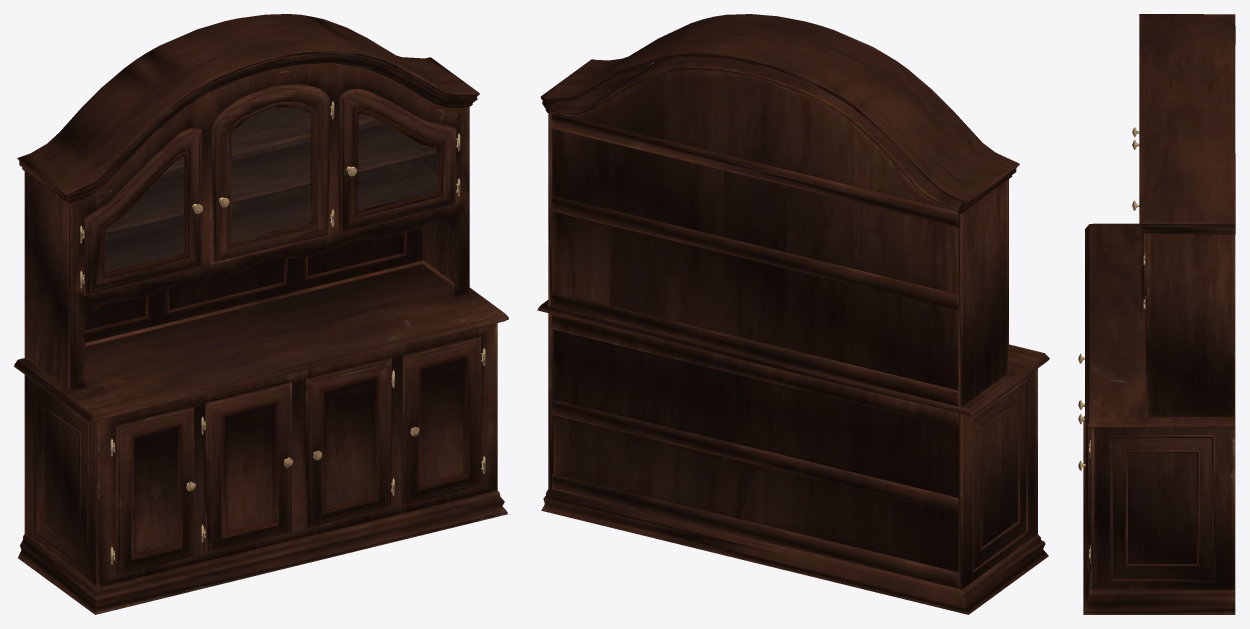
File: vintage_cabinet_01.glb
3 views of the same model, side by side, from view 1: azimuth 30°, elevation 25°; view 2: azimuth 150°, elevation 25°; view 3: azimuth 270°, elevation 25° (orthographic). The views are drawn at different scales.
Parts seen in each view (by area): view 1: vintage_cabinet_01_body, vintage_cabinet_01_door_01; view 2: vintage_cabinet_01_body; view 3: vintage_cabinet_01_body.
Boxes of the visible parts, <box> form: vintage_cabinet_01_body: <box>14,14,508,614</box>; vintage_cabinet_01_door_01: <box>105,107,436,271</box>; vintage_cabinet_01_body: <box>537,14,1049,614</box>; vintage_cabinet_01_body: <box>1078,14,1235,614</box>.
Size of the model in its own units: 2.02 by 2.23 by 0.6698.
3 materials, 2 textured.
